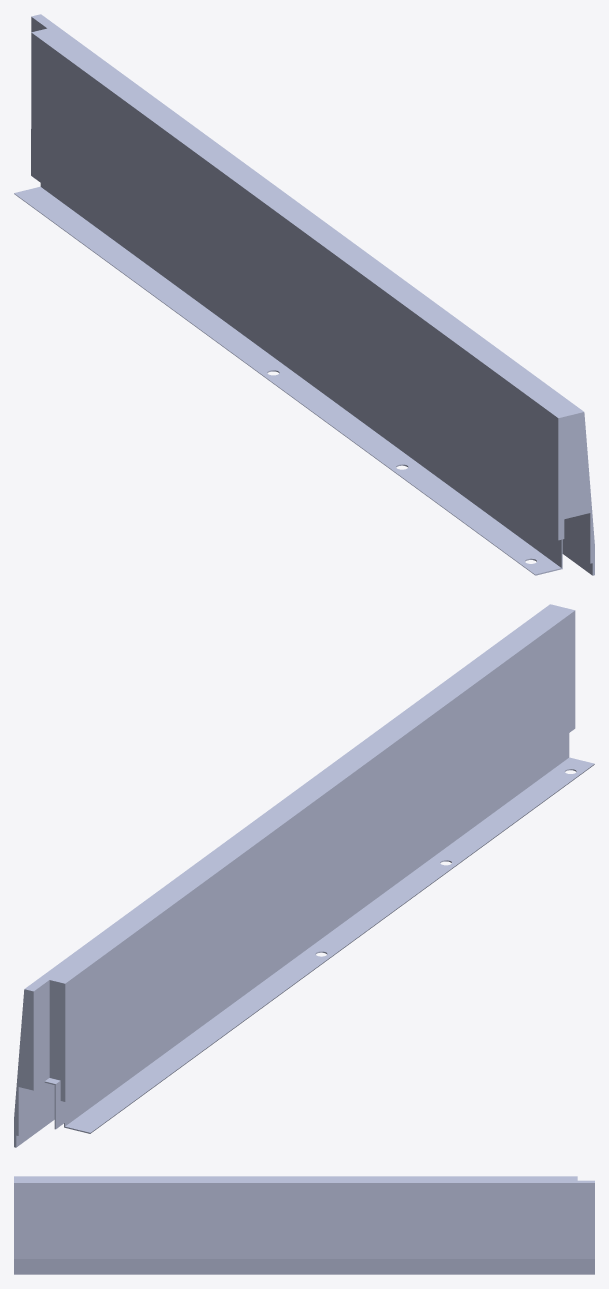
File: mv-kava-M550-m.glb
The picture shows the model from 3 angles, top to bottom: view 1: azimuth 30°, elevation 25°; view 2: azimuth 150°, elevation 25°; view 3: azimuth 270°, elevation 25°; orthographic projection. The views are drawn at different scales.
Parts seen in each view (by area): view 1: 47037071; view 2: 47037071; view 3: 47037071.
Part boxes in pixels (x1=…): 47037071: x1=14, y1=14, x2=594, y2=575; 47037071: x1=14, y1=604, x2=594, y2=1147; 47037071: x1=14, y1=1176, x2=594, y2=1274.
Bounding box in the file's own units: 0.0335 × 0.091 × 0.5402.
